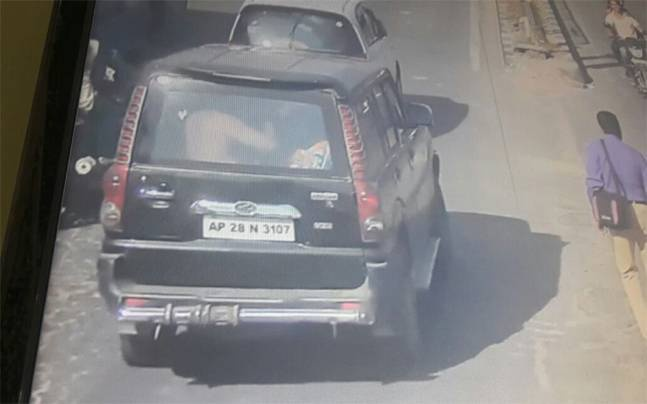plate: (195, 197, 305, 257)
